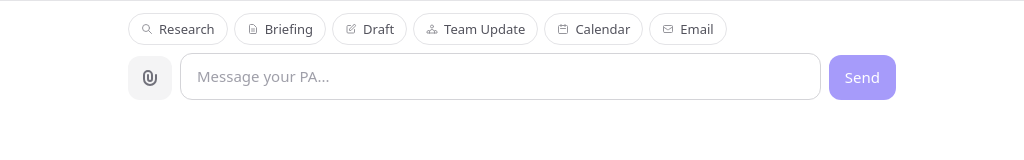
Scenario: ChatInputBar › populates input when QuickAction is clicked
Click the button "Research" at (178, 29), box [128,13,228,45]
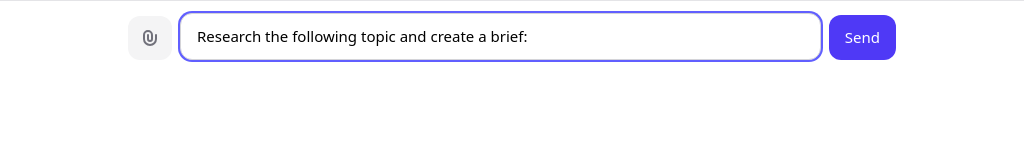
Check: the text box holds "Research the following topic and create a brief: ", box [180,13,821,60]
